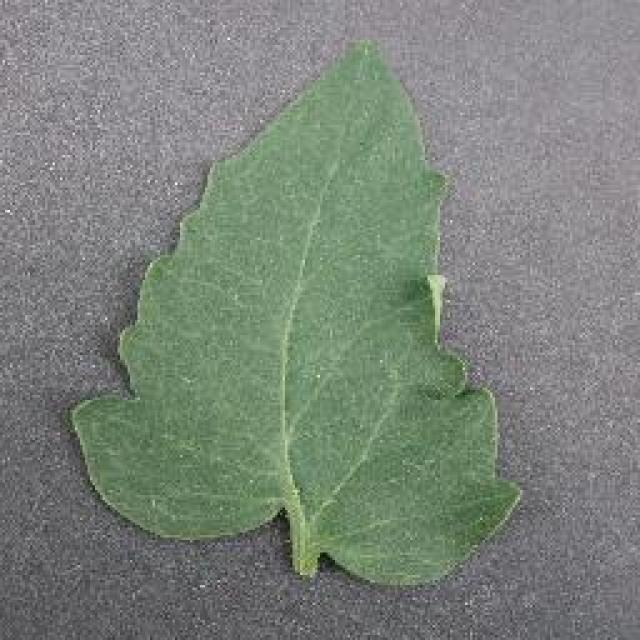Tomato_Healthy: (68, 38, 530, 588)
